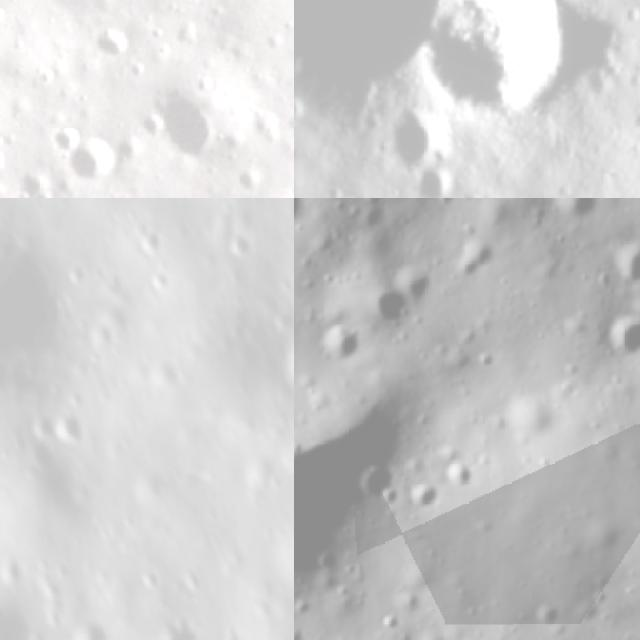crater: (403, 0, 603, 156), (294, 0, 476, 141), (294, 404, 416, 601), (0, 233, 69, 392), (155, 77, 229, 166), (373, 100, 452, 180), (68, 135, 123, 193), (444, 231, 502, 286), (365, 278, 418, 336), (341, 458, 406, 503), (594, 239, 640, 295), (408, 155, 465, 198), (22, 436, 70, 486), (598, 309, 640, 366), (401, 477, 446, 523), (319, 318, 359, 369), (542, 198, 601, 230), (90, 25, 132, 66), (574, 518, 620, 554), (17, 160, 60, 198), (53, 408, 90, 450), (131, 222, 172, 259), (142, 619, 211, 640), (145, 357, 185, 393), (0, 603, 38, 640), (80, 315, 116, 354), (438, 458, 476, 493), (65, 616, 120, 640), (276, 315, 294, 386), (528, 598, 561, 636), (235, 164, 269, 198), (26, 404, 60, 438), (226, 227, 258, 263), (139, 109, 171, 143), (568, 597, 602, 629), (359, 203, 396, 232), (146, 264, 178, 297), (60, 262, 93, 290), (56, 122, 82, 152), (470, 344, 497, 371), (294, 616, 320, 640), (378, 610, 402, 630), (219, 624, 246, 640), (0, 4, 14, 32), (427, 198, 462, 208)
